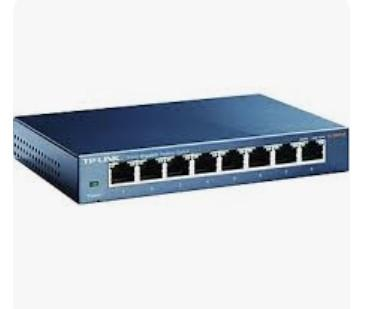NetworkSwitch: (14, 94, 349, 205)
